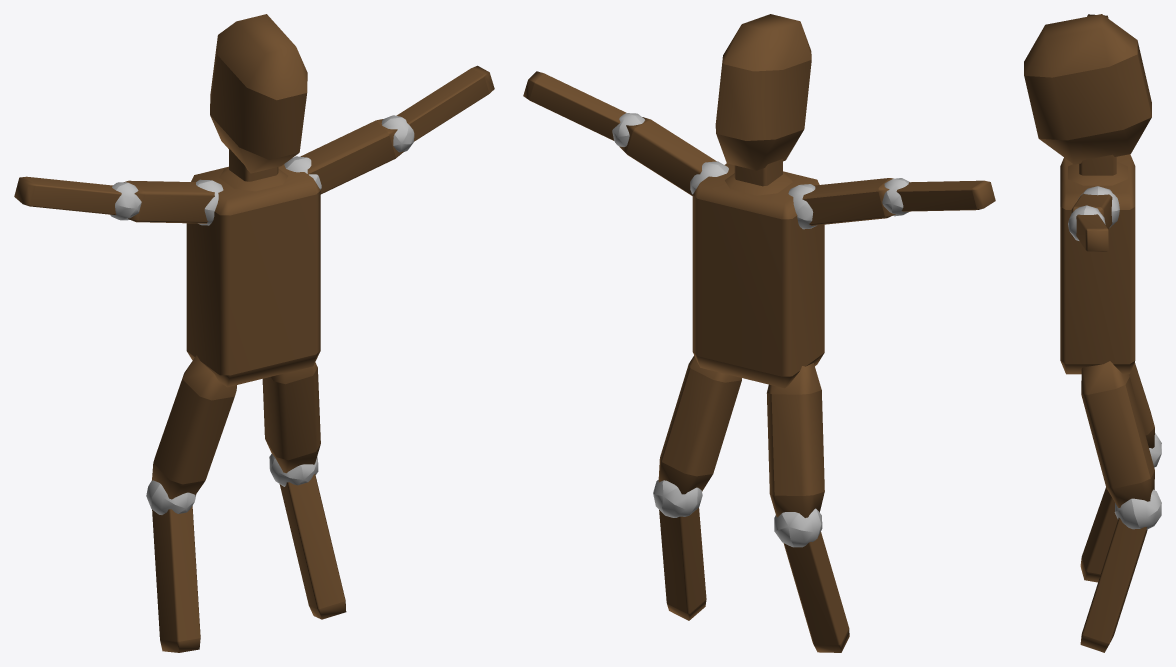
The model's file is Robots and Humanoids(2).glb.
3 views of the same model, side by side, from view 1: azimuth 30°, elevation 25°; view 2: azimuth 150°, elevation 25°; view 3: azimuth 270°, elevation 25° (orthographic). The views are drawn at different scales.
Visible parts, largest first — view 1: Root; view 2: Root; view 3: Root.
Part boxes in pixels (x1,y1,x2,y2): Root: [14, 14, 494, 652]; Root: [523, 14, 995, 652]; Root: [1024, 14, 1161, 652].
Size of the model in its own units: 3.5 by 4.37 by 0.9188.
